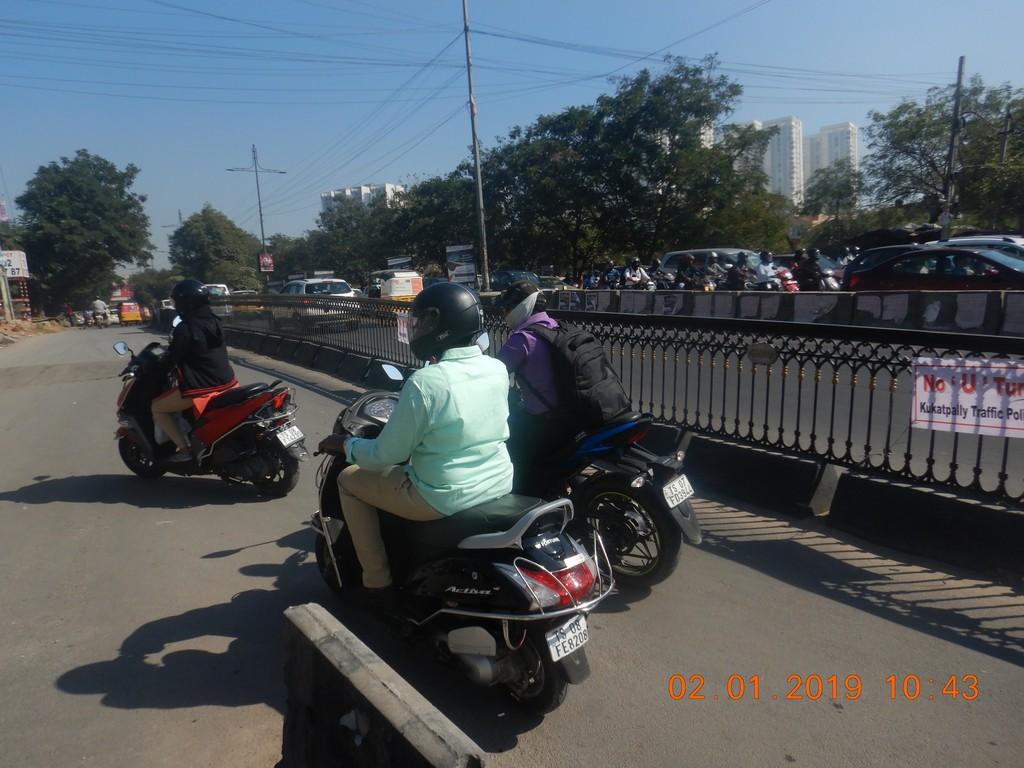plate: (545, 618, 592, 659), (665, 476, 693, 508)
